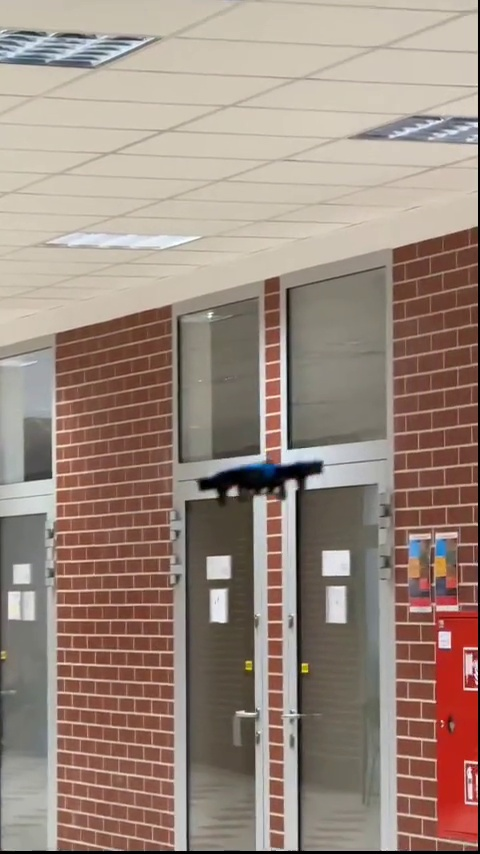drone: (196, 458, 325, 500)
